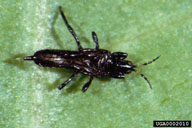Thrips: (28, 6, 162, 106)
